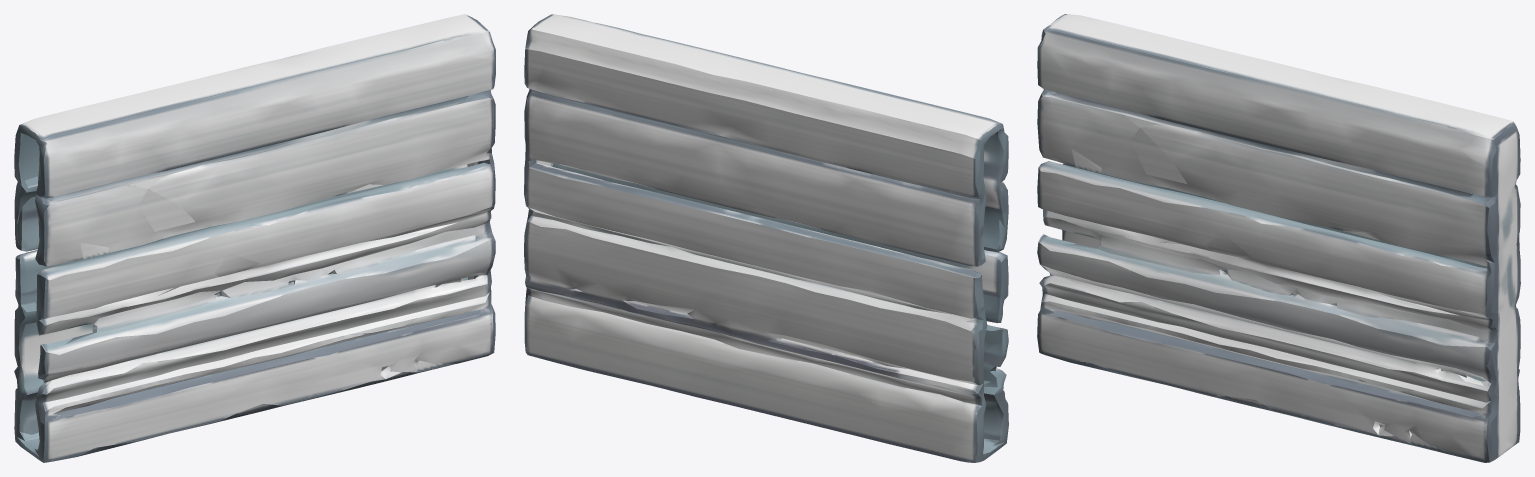
Rendered from shiplap-wood-wall.glb.
3 views of the same model, side by side, from view 1: azimuth 30°, elevation 25°; view 2: azimuth 150°, elevation 25°; view 3: azimuth 330°, elevation 25° (orthographic).
Visible parts, largest first — view 1: geometry_0; view 2: geometry_0; view 3: geometry_0.
Boxes of the visible parts, left/top/right/bottom form: geometry_0: left=14, top=14, right=495, bottom=462; geometry_0: left=524, top=14, right=1008, bottom=462; geometry_0: left=1037, top=14, right=1520, bottom=462.
Bounding box in the file's own units: 1 × 0.6824 × 0.1265.
Materials: 1 (1 with a texture image).
